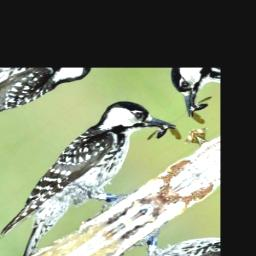Woodpecker: (0, 85, 201, 256)
